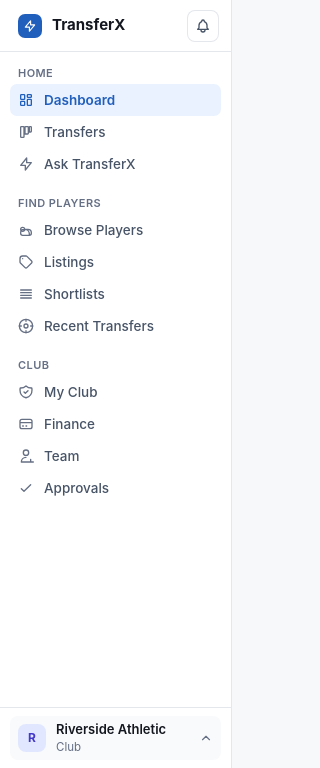
it: Sidebar › account menu › opens on click, closes on Escape and returns focus to the button
The image size is (320, 768).
Click the button "R Riverside Athletic Club". click: coordinates (116, 738)
box: [10,716,221,760]
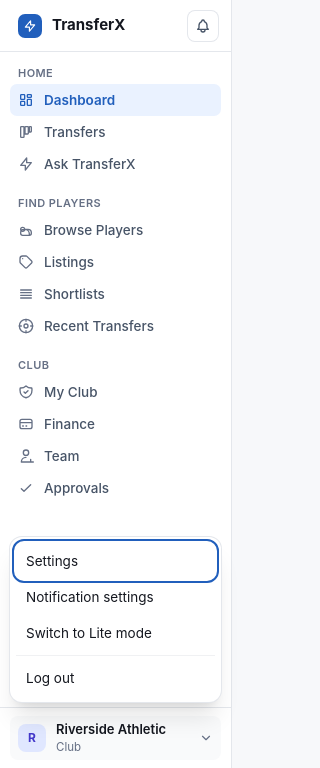
Result: the menu is shown at [10,537,221,702]
Result: the button "R Riverside Athletic Club" is expanded at [10,716,221,760]
Press Escape
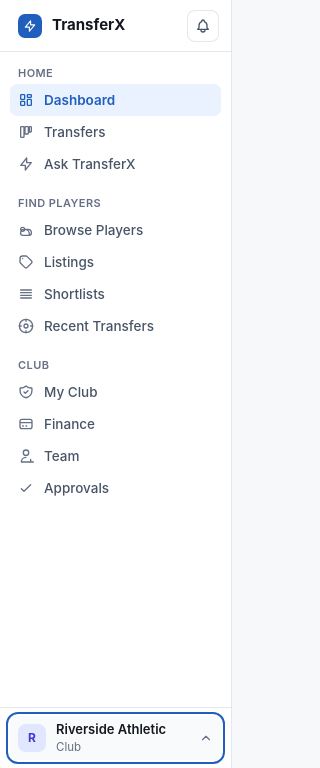
Result: the menu is gone
